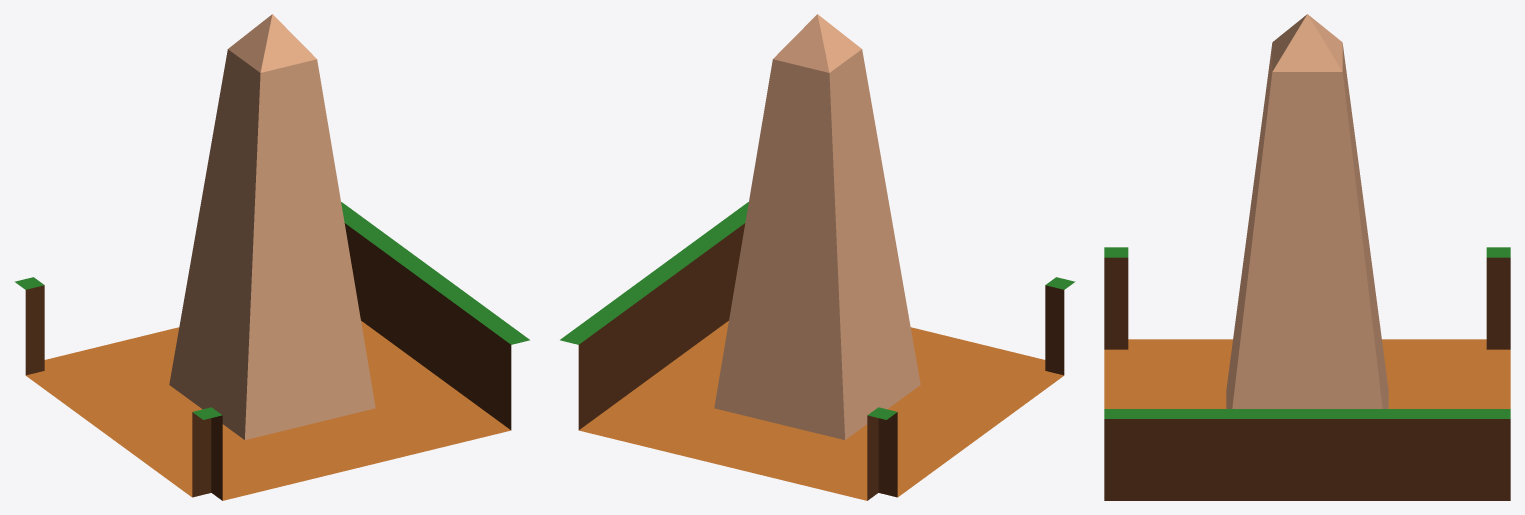
The model's file is Path_3_Way_Target.fbx.
The picture shows the model from 3 angles, left to right: view 1: azimuth 30°, elevation 25°; view 2: azimuth 150°, elevation 25°; view 3: azimuth 270°, elevation 25°; orthographic projection. The views are drawn at different scales.
Parts seen in each view (by area): view 1: Path_3_Way_Target; view 2: Path_3_Way_Target; view 3: Path_3_Way_Target.
Boxes of the visible parts, bbox=[...] form: Path_3_Way_Target: bbox=[14, 14, 529, 500]; Path_3_Way_Target: bbox=[560, 14, 1075, 500]; Path_3_Way_Target: bbox=[1104, 14, 1510, 500].
Bounding box in the file's own units: 200 × 223 × 200.
